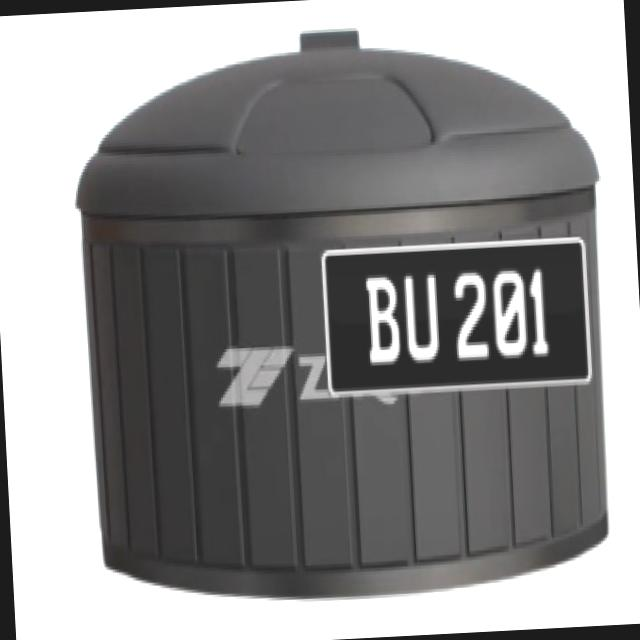bin_plate: (321, 235, 594, 400)
